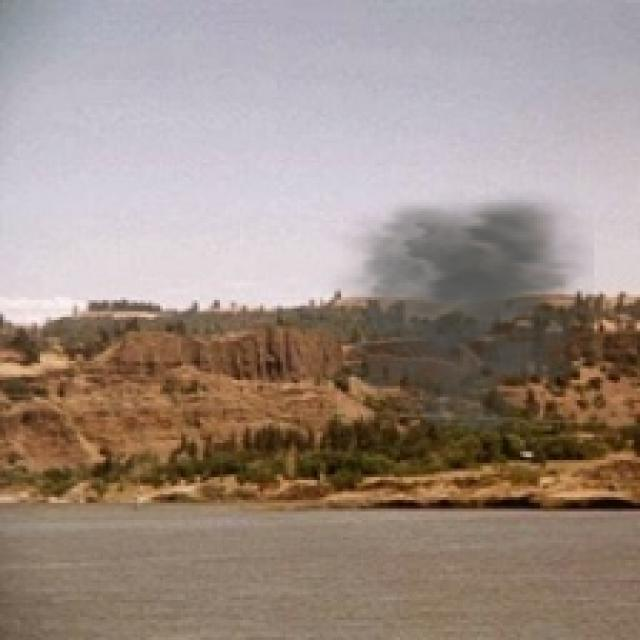smoke: (314, 186, 594, 431)
